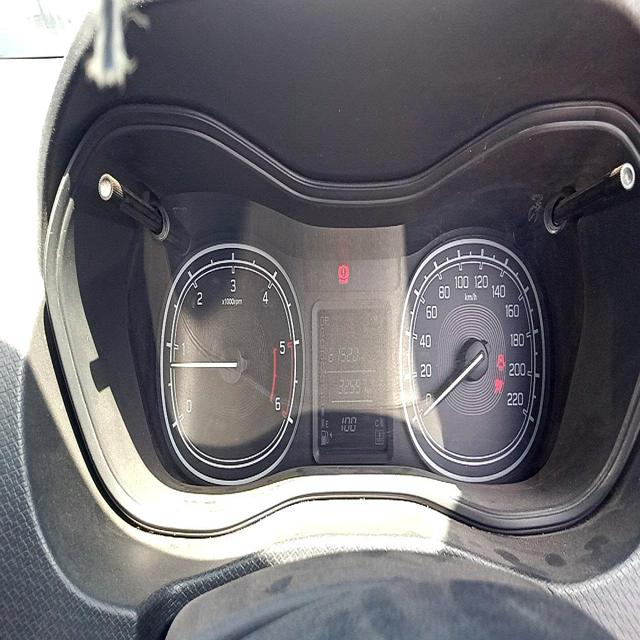odometer: (334, 375, 367, 398)
